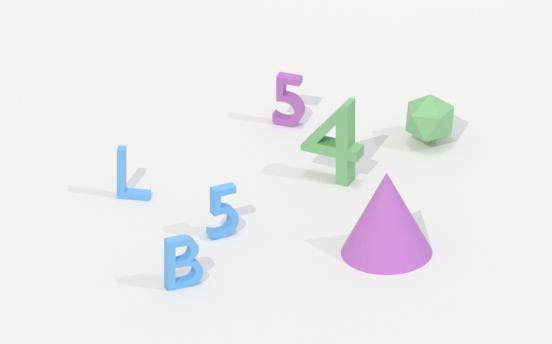4: (295, 95, 369, 186)
5: (202, 181, 245, 241), (268, 71, 310, 129)
b: (159, 233, 208, 292)
dagiac: (402, 93, 459, 146)
l: (112, 140, 159, 204)
non: (341, 172, 435, 280)
